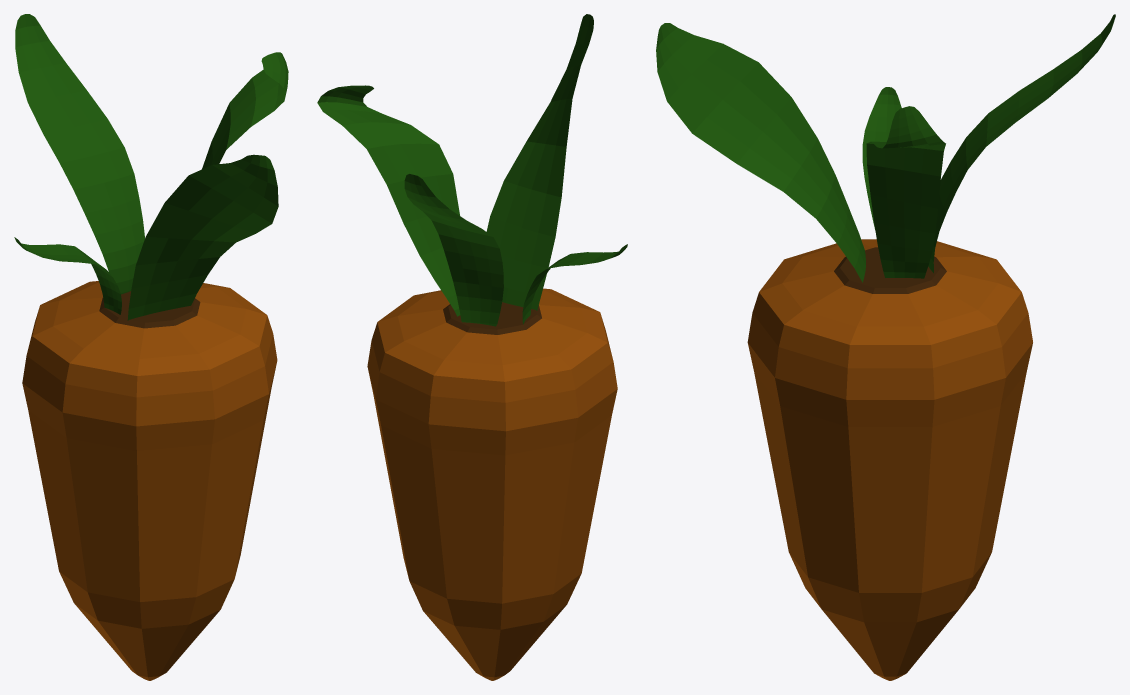
The model's file is Carrot.fbx.
The picture shows the model from 3 angles, left to right: view 1: azimuth 30°, elevation 25°; view 2: azimuth 150°, elevation 25°; view 3: azimuth 270°, elevation 25°; orthographic projection. The views are drawn at different scales.
Visible parts, largest first — view 1: Плоскость.002, Цилиндр, Цилиндр.008, Цилиндр.007, Цилиндр.006, Цилиндр.005, Цилиндр.004, Цилиндр.003, Цилиндр.001; view 2: Плоскость.002, Цилиндр, Цилиндр.008, Цилиндр.007, Цилиндр.006, Цилиндр.005, Цилиндр.004, Цилиндр.003, Цилиндр.001; view 3: Плоскость.002, Цилиндр, Цилиндр.008, Цилиндр.007, Цилиндр.006, Цилиндр.005, Цилиндр.004, Цилиндр.003, Цилиндр.001.
Part boxes in pixels (x1,y1,x2,y2): Плоскость.002: (14,14,288,320); Цилиндр: (26,281,272,397); Цилиндр.008: (22,334,277,450); Цилиндр.007: (28,391,270,501); Цилиндр.006: (38,447,260,551); Цилиндр.005: (49,501,250,602); Цилиндр.004: (59,571,234,628); Цилиндр.003: (75,604,219,649); Цилиндр.001: (99,633,196,680); Плоскость.002: (317,14,627,326); Цилиндр: (371,288,613,402); Цилиндр.008: (367,341,617,455); Цилиндр.007: (373,396,611,504); Цилиндр.006: (383,450,601,554); Цилиндр.005: (394,506,591,603); Цилиндр.004: (409,574,581,629); Цилиндр.003: (423,605,566,650); Цилиндр.001: (446,633,542,680); Плоскость.002: (656,14,1115,282); Цилиндр: (752,239,1028,368); Цилиндр.008: (747,313,1032,426); Цилиндр.007: (754,372,1026,482); Цилиндр.006: (765,432,1014,537); Цилиндр.005: (777,492,1003,592); Цилиндр.004: (789,553,991,622); Цилиндр.003: (822,609,958,645); Цилиндр.001: (844,637,936,680).
Size of the model in its own units: 266 by 525 by 333.
